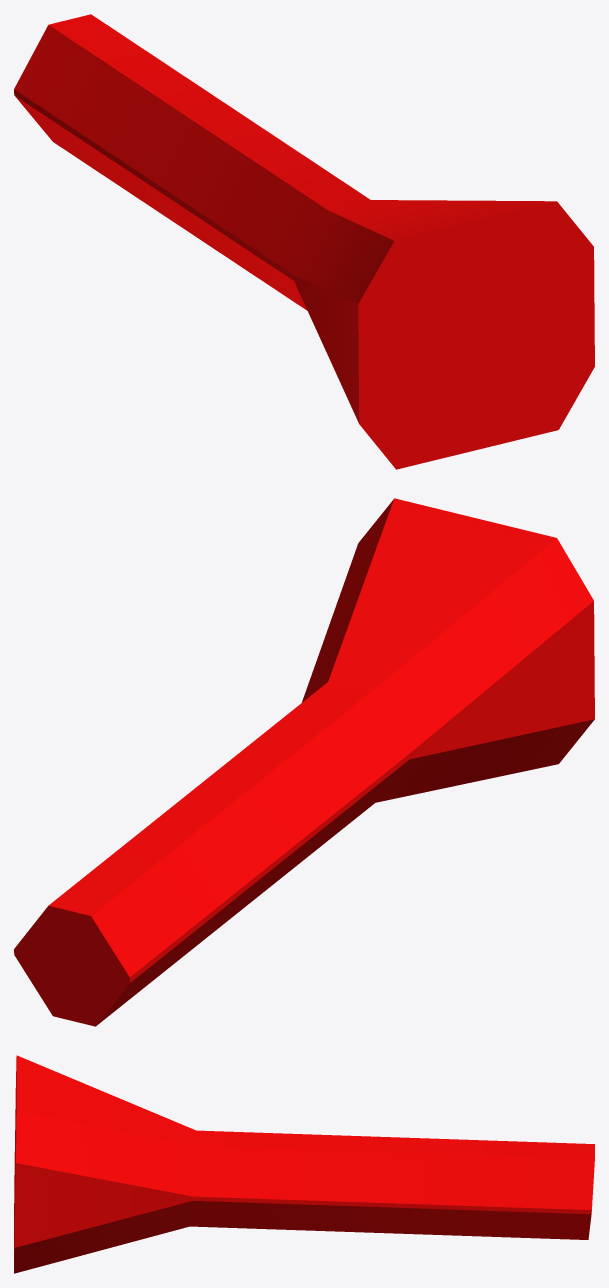
The model's file is MSG_BG_Mesh_Basement_Hand_Light_2.FBX.
3 renders of one model, top to bottom at view 1: azimuth 30°, elevation 25°; view 2: azimuth 150°, elevation 25°; view 3: azimuth 270°, elevation 25°, orthographic. The views are drawn at different scales.
Parts seen in each view (by area): view 1: Box015; view 2: Box015; view 3: Box015.
Boxes of the visible parts, left/top/right/bottom form: Box015: left=14, top=14, right=594, bottom=469; Box015: left=14, top=498, right=594, bottom=1026; Box015: left=14, top=1055, right=594, bottom=1273.
Size of the model in its own units: 22.51 by 20.75 by 67.42.
